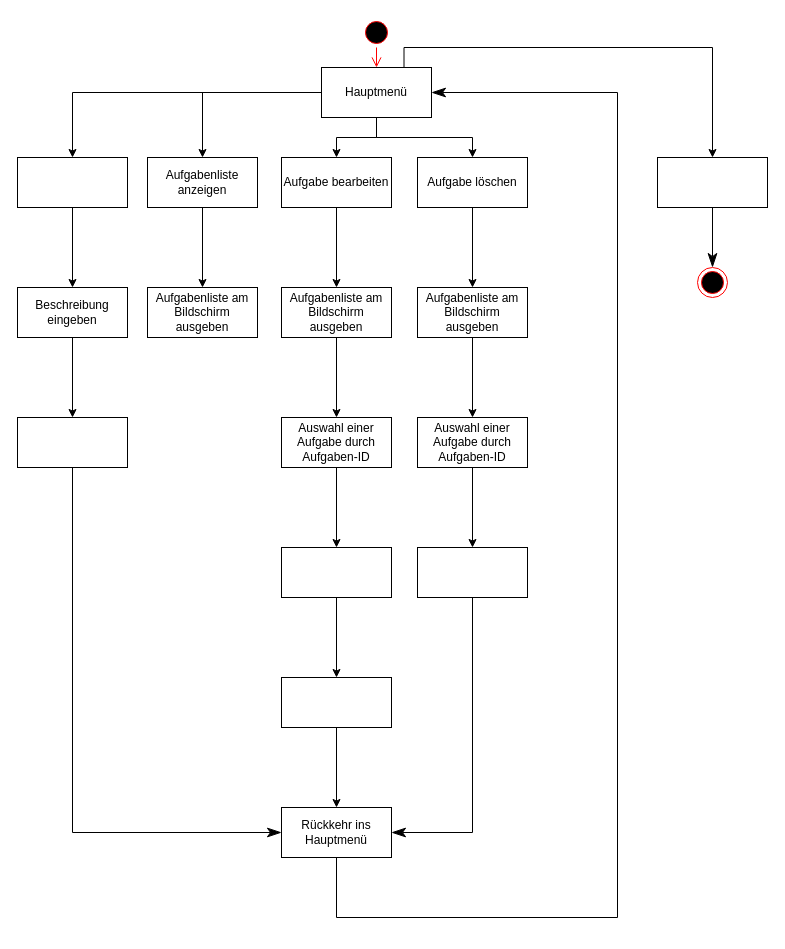
Some shapes in this 785 by 949 pixel diagram are drawn without their labels. The box of each missing label's shape, as (x1, y1, x2, y2) in pixels:
Aufgabe hinzufügen: (16, 156, 128, 208)
Aufgabe in Liste hinzufügen: (16, 416, 128, 468)
Liste aktualisieren: (280, 676, 392, 728)
Löschen der Ausfgabe in der Liste: (416, 546, 528, 598)
Neue Beschreibung der Aufgabe eingeben: (280, 546, 392, 598)
Programm beenden: (656, 156, 768, 208)
